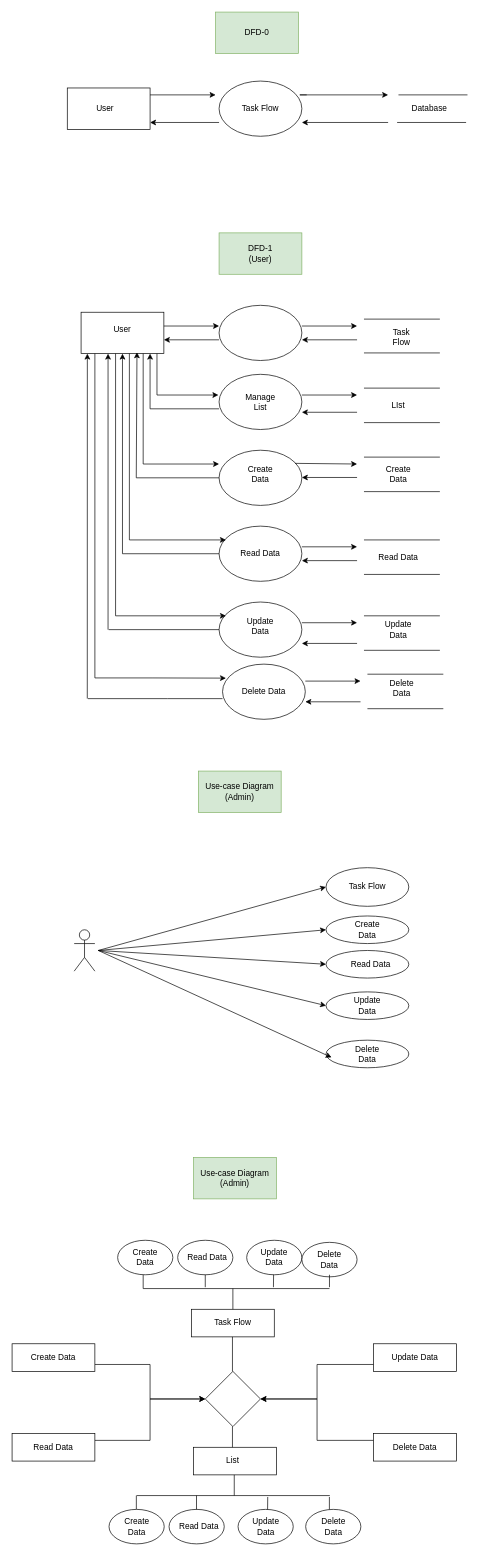
The diagram is 480 pixels wide and 1556 high, and some of its shapes have lost their labels. Each missing label, with the box of its shape:
Actor: (73, 929, 95, 971)
Add List: (218, 305, 302, 361)
Manage Database: (205, 1371, 260, 1427)
